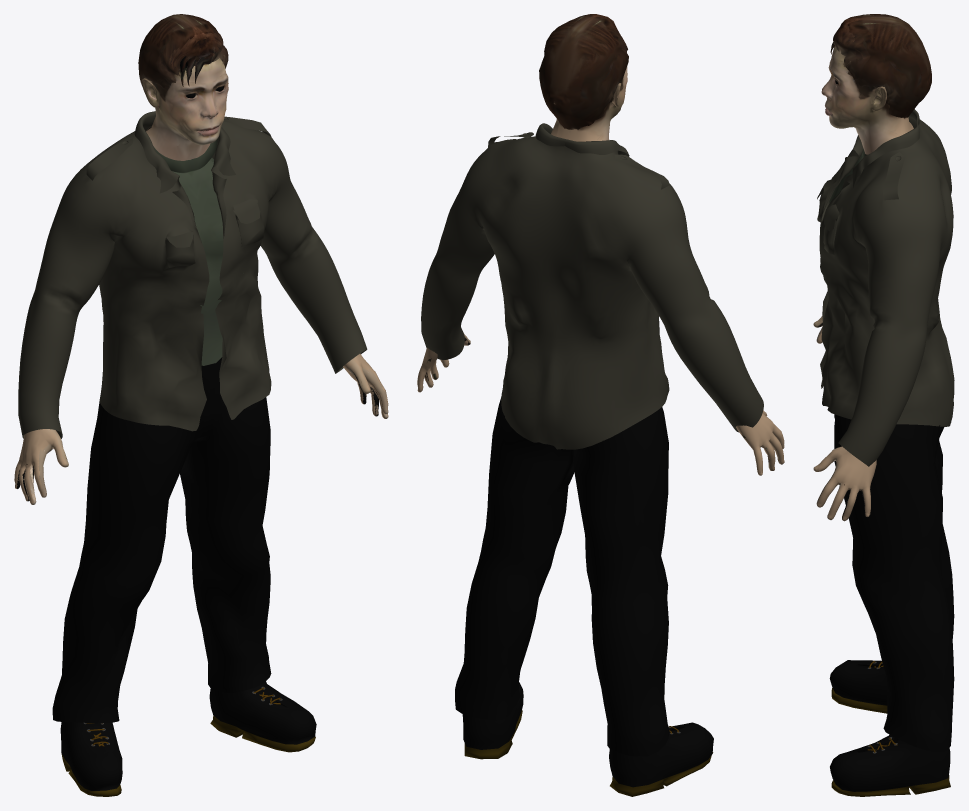
The model's file is ahmd 3.glb.
The picture shows the model from 3 angles, left to right: view 1: azimuth 30°, elevation 25°; view 2: azimuth 150°, elevation 25°; view 3: azimuth 270°, elevation 25°; orthographic projection.
Parts seen in each view (by area): view 1: SUIT.001, pants.001, charctr1.001, Cube.002, SHIRT.002, hair.001; view 2: SUIT.001, pants.001, hair.001, Cube.002, charctr1.001; view 3: SUIT.001, pants.001, Cube.002, hair.001, charctr1.001.
Boxes of the visible parts, x1,y1,x2,y2 form: SUIT.001: (18, 111, 367, 438); pants.001: (52, 357, 271, 723); charctr1.001: (14, 58, 388, 504); Cube.002: (60, 681, 316, 796); SHIRT.002: (153, 139, 243, 365); hair.001: (138, 14, 228, 94); SUIT.001: (421, 123, 763, 449); pants.001: (455, 397, 669, 756); hair.001: (539, 14, 628, 129); Cube.002: (462, 682, 713, 796); charctr1.001: (417, 66, 784, 475); SUIT.001: (817, 109, 954, 466); pants.001: (834, 414, 954, 751); Cube.002: (829, 660, 950, 796); hair.001: (830, 14, 931, 118); charctr1.001: (813, 46, 913, 521).
Bounding box in the file's own units: 7.85 × 15.46 × 2.71.
8 materials, 4 textured.
